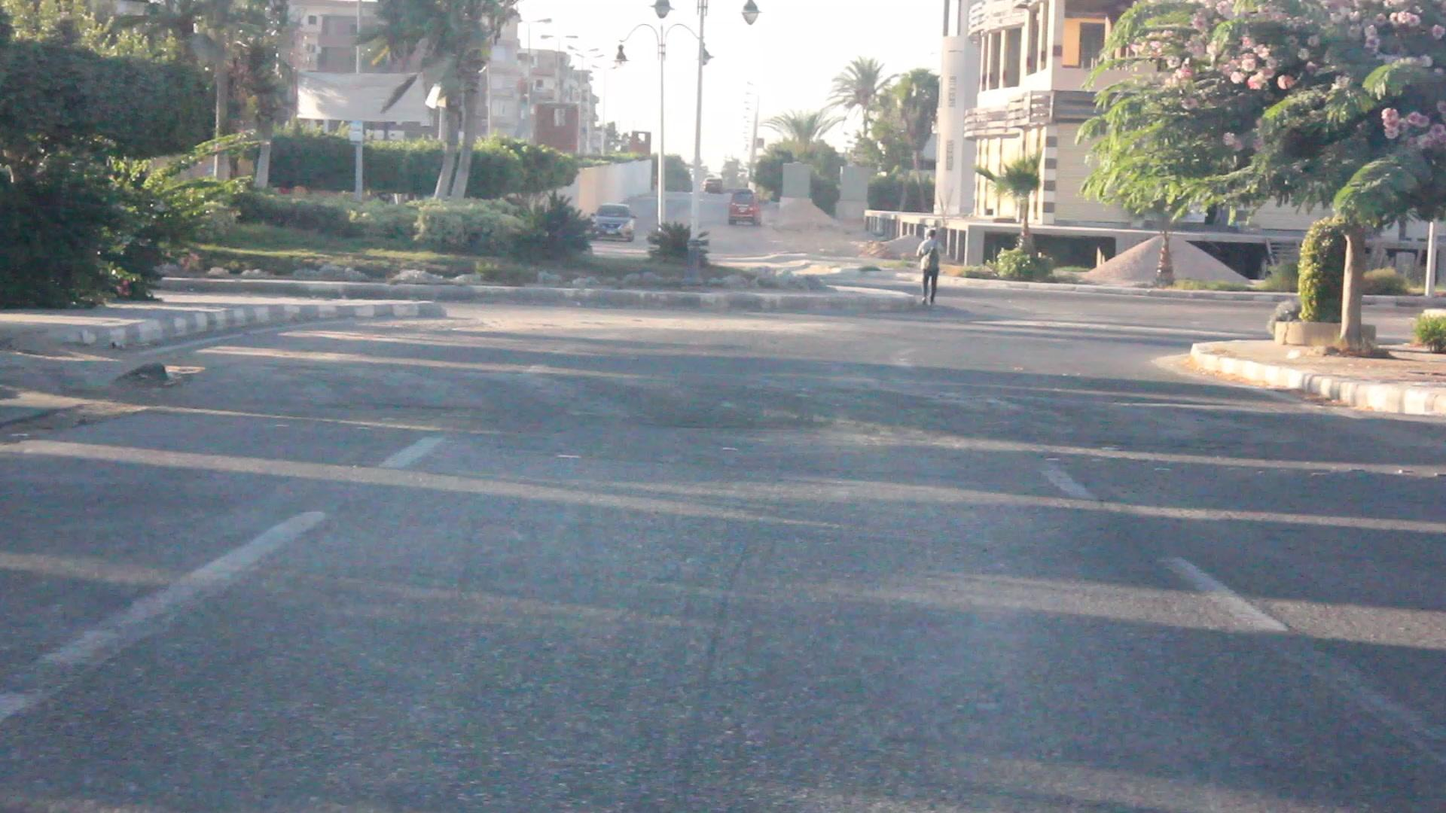Bump: (226, 369, 1333, 454)
